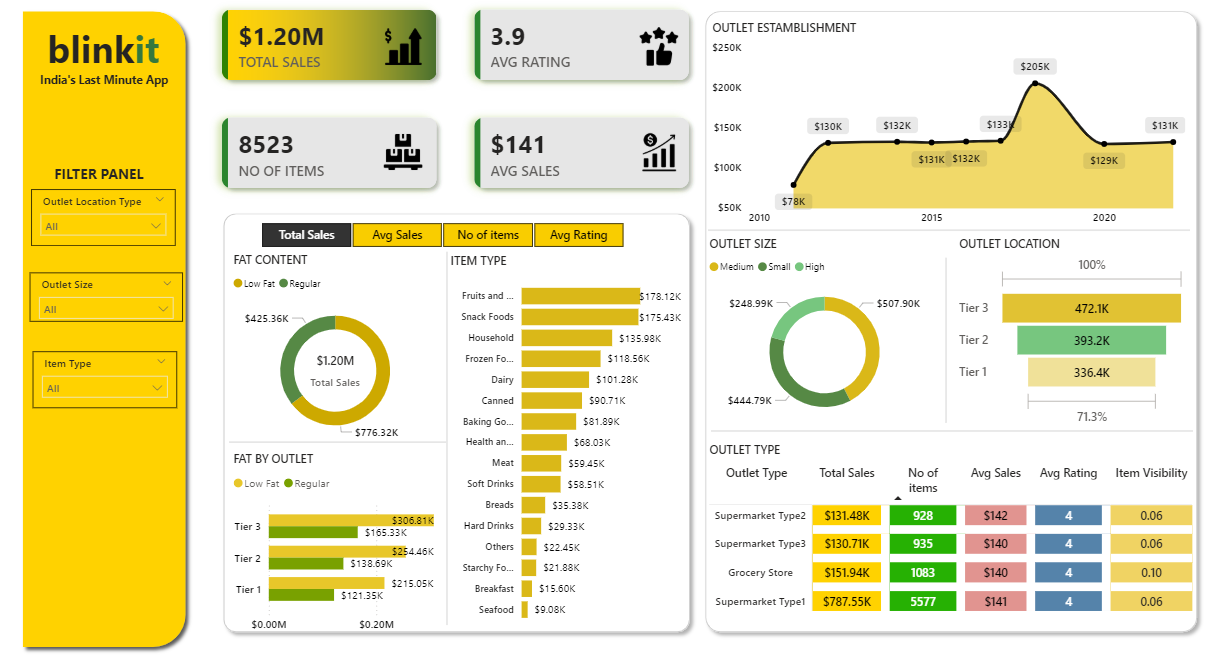

The dashboard page shown, as its layout file describes it:
{"tool":"powerbi","page":{"name":"Page 1","canvas":[1400,800],"ordinal":0},"visuals":[{"type":"shape","box":[17.1,25.7,205.4,749.7],"z":0},{"type":"textbox","box":[35.9,44.5,166,85.6],"z":1000},{"type":"textbox","box":[17.1,99.3,205.4,30.8],"z":2000},{"type":"cardVisual","fields":{"Data":["BlinkIT Grocery Data.Total Sales","BlinkIT Grocery Data.Avg Rating","BlinkIT Grocery Data.No of items","BlinkIT Grocery Data.Avg Sales"]},"box":[222.5,0,604.2,272.1],"z":3000},{"type":"shape","box":[248.2,258.4,554.5,499.8],"z":4000},{"type":"donutChart","title":"FAT CONTENT","fields":{"Y":["BlinkIT Grocery Data.Total Sales"],"Category":["BlinkIT Grocery Data.Item Fat Content"]},"box":[263.6,311.5,244.8,229.4],"z":5000},{"type":"slicer","fields":{"Values":["Metrics.Metrics"]},"box":[275.6,272.1,465.5,39.4],"z":6000},{"type":"clusteredBarChart","title":"FAT BY OUTLET","fields":{"Y":["BlinkIT Grocery Data.Total Sales"],"Category":["BlinkIT Grocery Data.Outlet Location Type"],"Series":["BlinkIT Grocery Data.Item Fat Content"]},"box":[263.6,540.9,261.9,217.4],"z":7000},{"type":"card","fields":{"Values":["BlinkIT Grocery Data.Total Sales"]},"box":[321.8,414.2,128.4,66.8],"z":8000},{"type":"shape","box":[499.8,311.5,29.1,429.6],"z":9000},{"type":"shape","box":[263.6,520.3,249.9,20.5],"z":10000},{"type":"barChart","title":"ITEM TYPE","fields":{"Y":["BlinkIT Grocery Data.Total Sales"],"Category":["BlinkIT Grocery Data.Item Type"]},"box":[513.5,313.2,275.6,434.7],"z":11000},{"type":"shape","box":[802.7,25.7,583.6,732.6],"z":12000},{"type":"lineChart","title":"OUTLET ESTAMBLISHMENT","fields":{"Y":["BlinkIT Grocery Data.Total Sales"],"Category":["BlinkIT Grocery Data.Outlet Establishment Year"]},"box":[814.7,44.5,554.5,246.5],"z":13000},{"type":"shape","box":[814.7,280.7,554.5,12],"z":14000},{"type":"donutChart","title":"OUTLET SIZE","fields":{"Y":["BlinkIT Grocery Data.Total Sales"],"Category":["BlinkIT Grocery Data.Outlet Size"]},"box":[811.3,292.7,275.6,224.2],"z":15000},{"type":"shape","box":[1081.7,318.4,13.7,190],"z":16000},{"type":"funnel","title":"OUTLET LOCATION","fields":{"Y":["Sum(BlinkIT Grocery Data.Sales)"],"Category":["BlinkIT Grocery Data.Outlet Location Type"]},"box":[1098.8,292.7,270.4,224.2],"z":17000},{"type":"shape","box":[818.1,511.8,554.5,12],"z":18000},{"type":"pivotTable","title":"OUTLET TYPE","fields":{"Rows":["BlinkIT Grocery Data.Outlet Type"],"Values":["BlinkIT Grocery Data.Total Sales","BlinkIT Grocery Data.No of items","BlinkIT Grocery Data.Avg Sales","BlinkIT Grocery Data.Avg Rating","Avg(BlinkIT Grocery Data.Item Visibility)"]},"box":[811.3,530.6,576.8,220.8],"z":19000},{"type":"slicer","fields":{"Values":["BlinkIT Grocery Data.Outlet Location Type"]},"box":[35.9,239.6,166,65],"z":20000},{"type":"slicer","fields":{"Values":["BlinkIT Grocery Data.Outlet Size"]},"box":[34.2,335.5,176.3,56.5],"z":21000},{"type":"slicer","fields":{"Values":["BlinkIT Grocery Data.Item Type"]},"box":[37.7,426.2,166,65],"z":22000},{"type":"textbox","box":[17.1,205.4,193.4,34.2],"z":23000},{"type":"image","box":[441.6,53.1,45,45],"z":24000},{"type":"image","box":[441.6,174.6,44.5,44.5],"z":25000},{"type":"image","box":[736,174.6,45,45],"z":26000},{"type":"image","box":[736,53.1,44.5,44.5],"z":27000}]}

Visuals, with their boxes on the page's 1400x800 design canvas (x1, y1, x2, y2). These are canvas units, not pixel positions in the 1212x671 screenshot, which may show the page scaled, cropped or inside an application window:
shape: bbox=[17, 26, 222, 775]
textbox: bbox=[36, 44, 202, 130]
textbox: bbox=[17, 99, 222, 130]
cardVisual - BlinkIT Grocery Data.Total Sales x BlinkIT Grocery Data.Avg Rating: bbox=[222, 0, 827, 272]
shape: bbox=[248, 258, 803, 758]
"FAT CONTENT" donutChart: bbox=[264, 312, 508, 541]
slicer - Metrics.Metrics: bbox=[276, 272, 741, 312]
"FAT BY OUTLET" clusteredBarChart: bbox=[264, 541, 526, 758]
card - BlinkIT Grocery Data.Total Sales: bbox=[322, 414, 450, 481]
shape: bbox=[500, 312, 529, 741]
shape: bbox=[264, 520, 514, 541]
"ITEM TYPE" barChart: bbox=[514, 313, 789, 748]
shape: bbox=[803, 26, 1386, 758]
"OUTLET ESTAMBLISHMENT" lineChart: bbox=[815, 44, 1369, 291]
shape: bbox=[815, 281, 1369, 293]
"OUTLET SIZE" donutChart: bbox=[811, 293, 1087, 517]
shape: bbox=[1082, 318, 1095, 508]
"OUTLET LOCATION" funnel: bbox=[1099, 293, 1369, 517]
shape: bbox=[818, 512, 1373, 524]
"OUTLET TYPE" pivotTable: bbox=[811, 531, 1388, 751]
slicer - BlinkIT Grocery Data.Outlet Location Type: bbox=[36, 240, 202, 305]
slicer - BlinkIT Grocery Data.Outlet Size: bbox=[34, 336, 210, 392]
slicer - BlinkIT Grocery Data.Item Type: bbox=[38, 426, 204, 491]
textbox: bbox=[17, 205, 210, 240]
image: bbox=[442, 53, 487, 98]
image: bbox=[442, 175, 486, 219]
image: bbox=[736, 175, 781, 220]
image: bbox=[736, 53, 780, 98]
